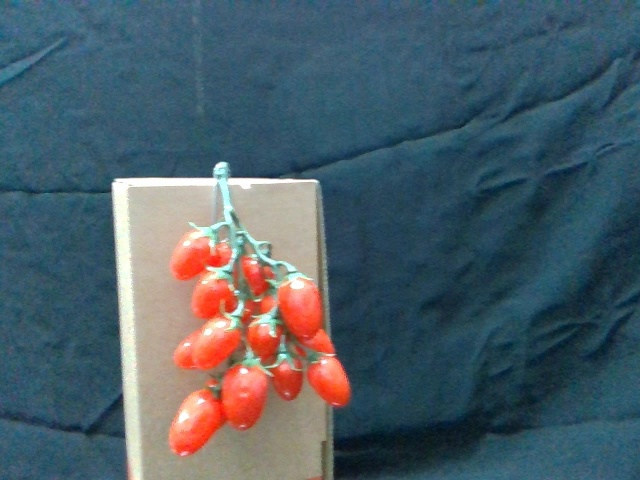tomato: (170, 380, 226, 457), (225, 358, 269, 429), (279, 273, 322, 338), (193, 315, 243, 366), (172, 228, 218, 281), (192, 267, 239, 314), (269, 348, 305, 403), (246, 311, 281, 359)
